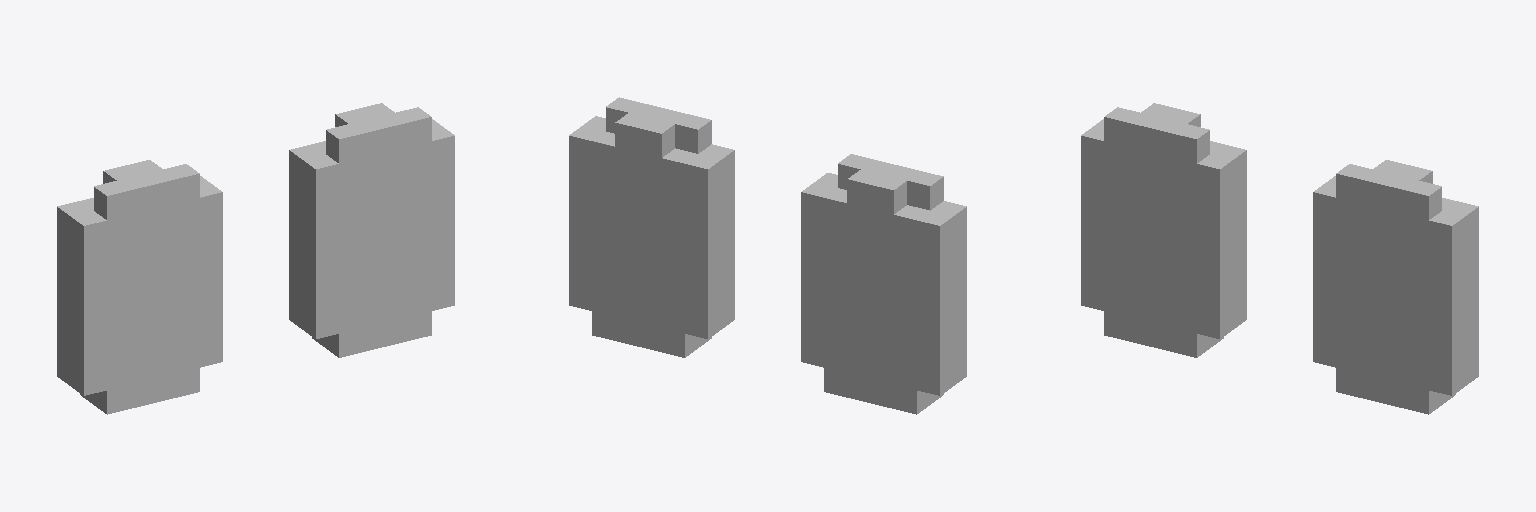
The model's file is Lentes1.obj.
3 renders of one model, left to right at view 1: azimuth 30°, elevation 25°; view 2: azimuth 150°, elevation 25°; view 3: azimuth 330°, elevation 25°, orthographic.
Parts seen in each view (by area): view 1: Untitled.001; view 2: Untitled.001; view 3: Untitled.001.
Boxes of the visible parts, <box> form: Untitled.001: <box>57,103,454,414</box>; Untitled.001: <box>569,97,966,414</box>; Untitled.001: <box>1081,103,1478,414</box>.
Bounding box in the file's own units: 1.6 × 0.9 × 0.2.